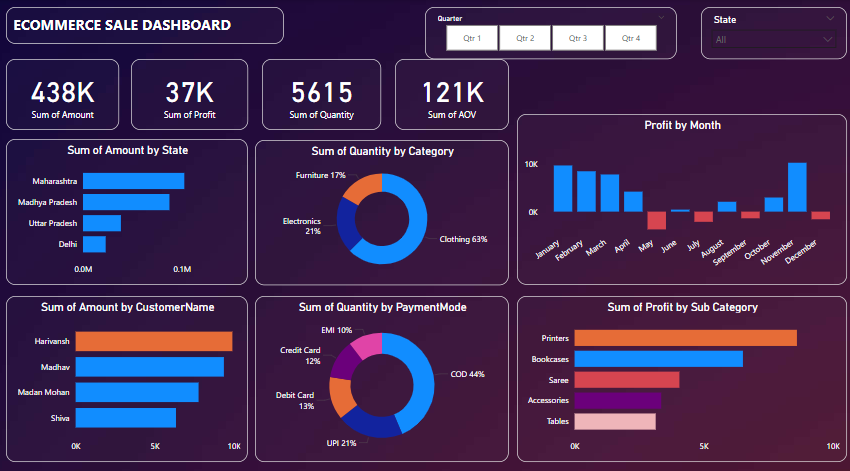

This screenshot's page, from the dashboard's own definition file:
{"tool":"powerbi","page":{"name":"Page 1","canvas":[1280,720],"ordinal":0},"visuals":[{"type":"textbox","box":[13.4,12,415.3,55.3],"z":0},{"type":"columnChart","title":" Profit by Month","fields":{"Category":["Orders.Order Date.Variation.Date Hierarchy.Month"],"Y":["Details.Profit"]},"box":[776.8,171.8,492.9,255.4],"z":1000},{"type":"barChart","title":"Sum of Profit by Sub Category","fields":{"Y":["Details.Profit"],"Category":["Details.Sub-Category"]},"box":[776.8,443.7,492.9,248],"z":2000},{"type":"donutChart","fields":{"Category":["Details.Category"],"Y":["Details.Quantity"]},"box":[385.4,210.6,379.4,216.6],"z":3000},{"type":"donutChart","fields":{"Category":["Details.PaymentMode"],"Y":["Details.Quantity"]},"box":[385.4,443.7,379.4,248],"z":4000},{"type":"card","fields":{"Values":["Details.Amount"]},"box":[13.4,89.6,168.8,106.1],"z":5000},{"type":"card","fields":{"Values":["Details.Quantity"]},"box":[395.9,89.6,177.8,106.1],"z":6000},{"type":"card","fields":{"Values":["Details.Profit"]},"box":[200.2,89.6,174.8,106.1],"z":7000},{"type":"card","fields":{"Values":["Details.AOV"]},"box":[594.5,89.6,170.3,106.1],"z":8000},{"type":"barChart","title":"Sum of Amount by State","fields":{"Category":["Orders.State"],"Y":["Details.Amount"]},"box":[13.4,209.1,361.5,218.1],"z":10000},{"type":"barChart","fields":{"Category":["Orders.CustomerName"],"Y":["Details.Amount"]},"box":[13.4,443.7,361.5,248],"z":11000},{"type":"slicer","fields":{"Values":["Orders.Order Date.Variation.Date Hierarchy.Quarter"]},"box":[639.3,12,376.4,77.7],"z":12000},{"type":"slicer","fields":{"Values":["Orders.State"]},"box":[1051.6,12,218.1,77.7],"z":13000}]}

Visuals, with their boxes in screenshot pixels (x1, y1, x2, y2), scaled from the page's 1280x720 canvas onto the 850x471 screenshot:
textbox: rect(9, 8, 285, 44)
" Profit by Month" columnChart: rect(516, 112, 843, 279)
"Sum of Profit by Sub Category" barChart: rect(516, 290, 843, 452)
donutChart - Details.Category x Details.Quantity: rect(256, 138, 508, 279)
donutChart - Details.PaymentMode x Details.Quantity: rect(256, 290, 508, 452)
card - Details.Amount: rect(9, 59, 121, 128)
card - Details.Quantity: rect(263, 59, 381, 128)
card - Details.Profit: rect(133, 59, 249, 128)
card - Details.AOV: rect(395, 59, 508, 128)
"Sum of Amount by State" barChart: rect(9, 137, 249, 279)
barChart - Orders.CustomerName x Details.Amount: rect(9, 290, 249, 452)
slicer - Orders.Order Date.Variation.Date Hierarchy.Quarter: rect(425, 8, 674, 59)
slicer - Orders.State: rect(698, 8, 843, 59)
